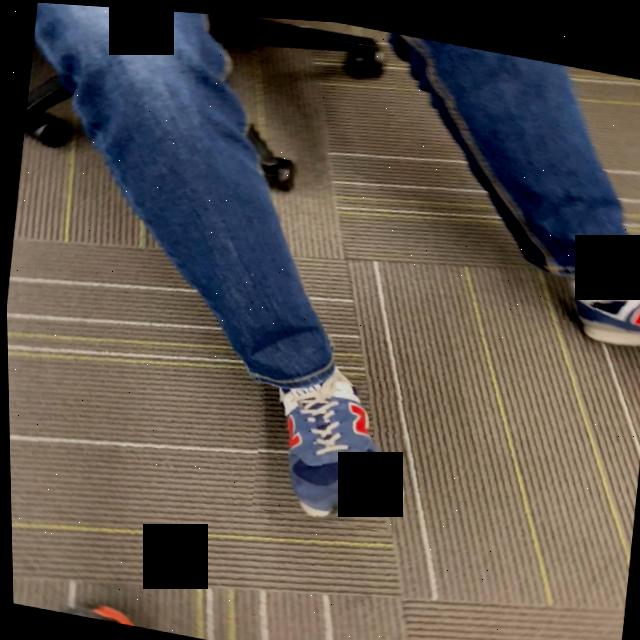shoe: (261, 367, 397, 516), (564, 249, 640, 324)
